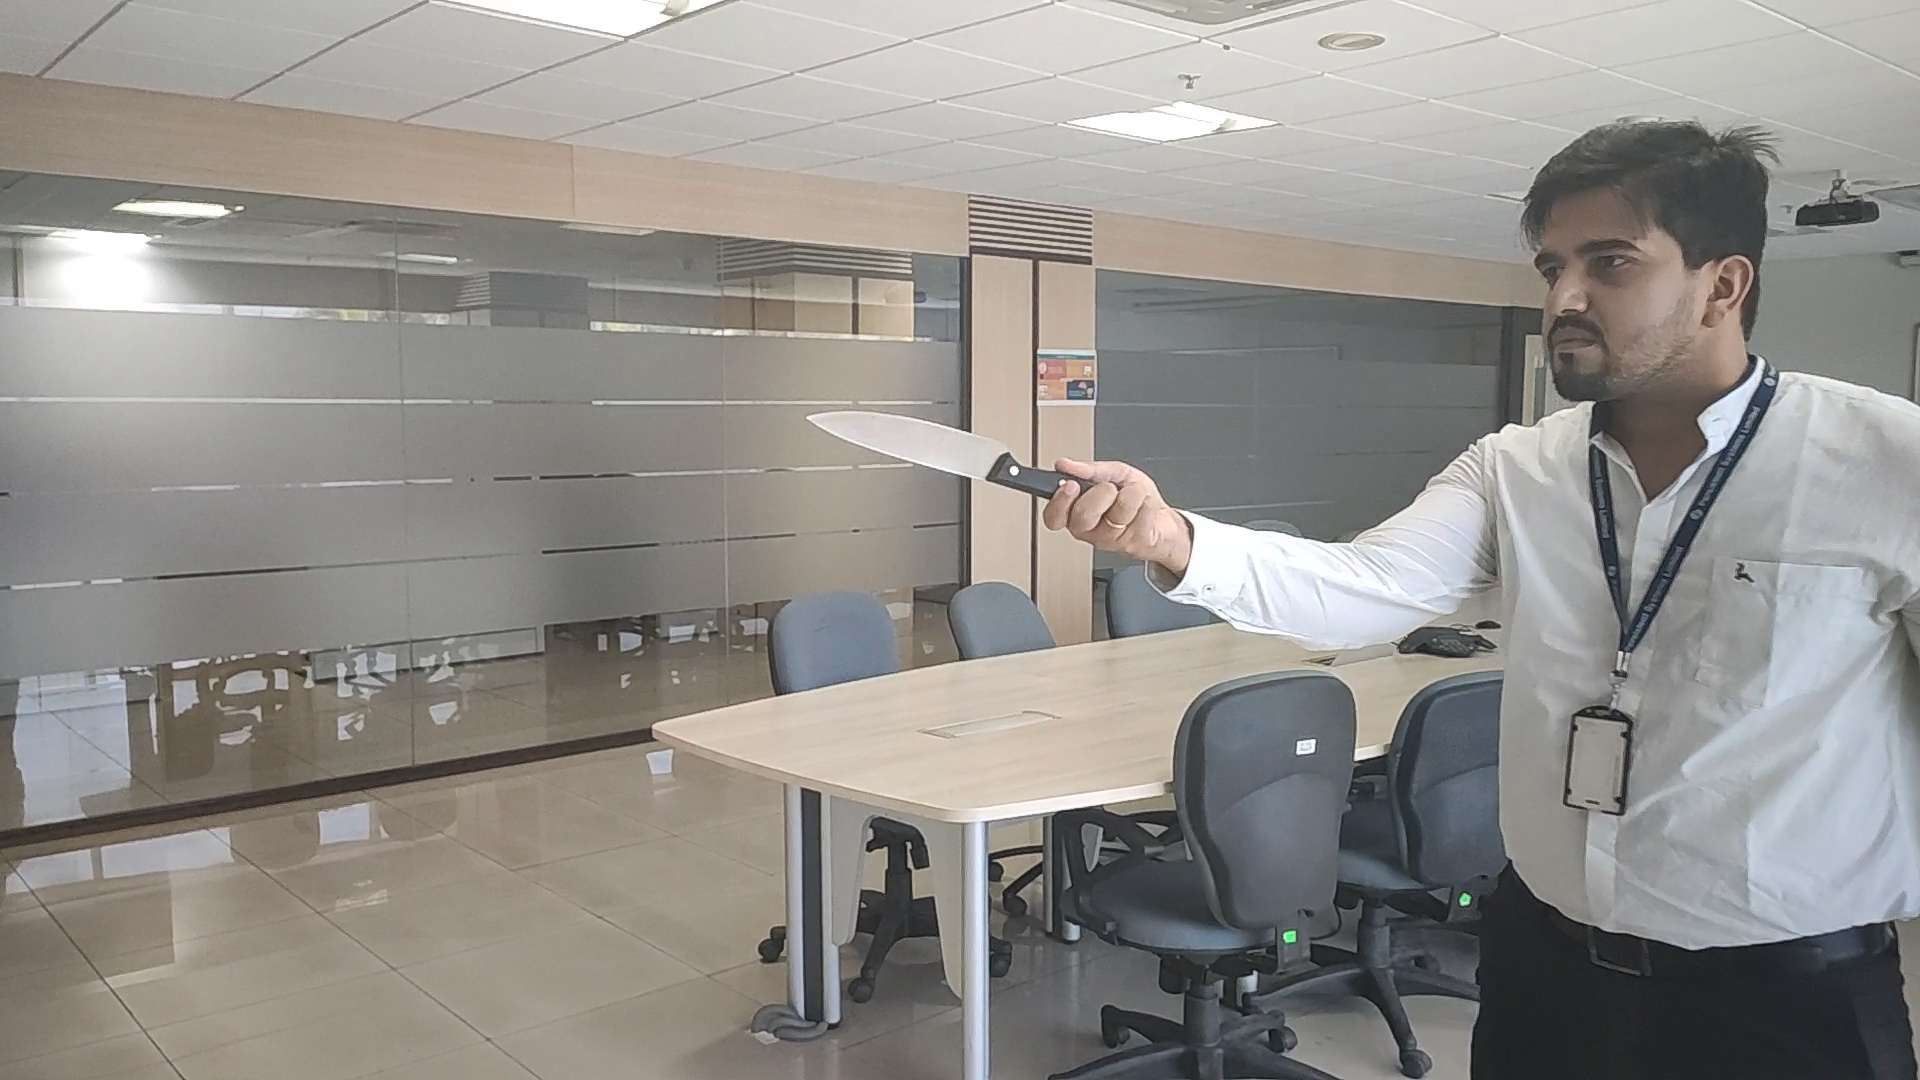knife: (804, 404, 1065, 498)
